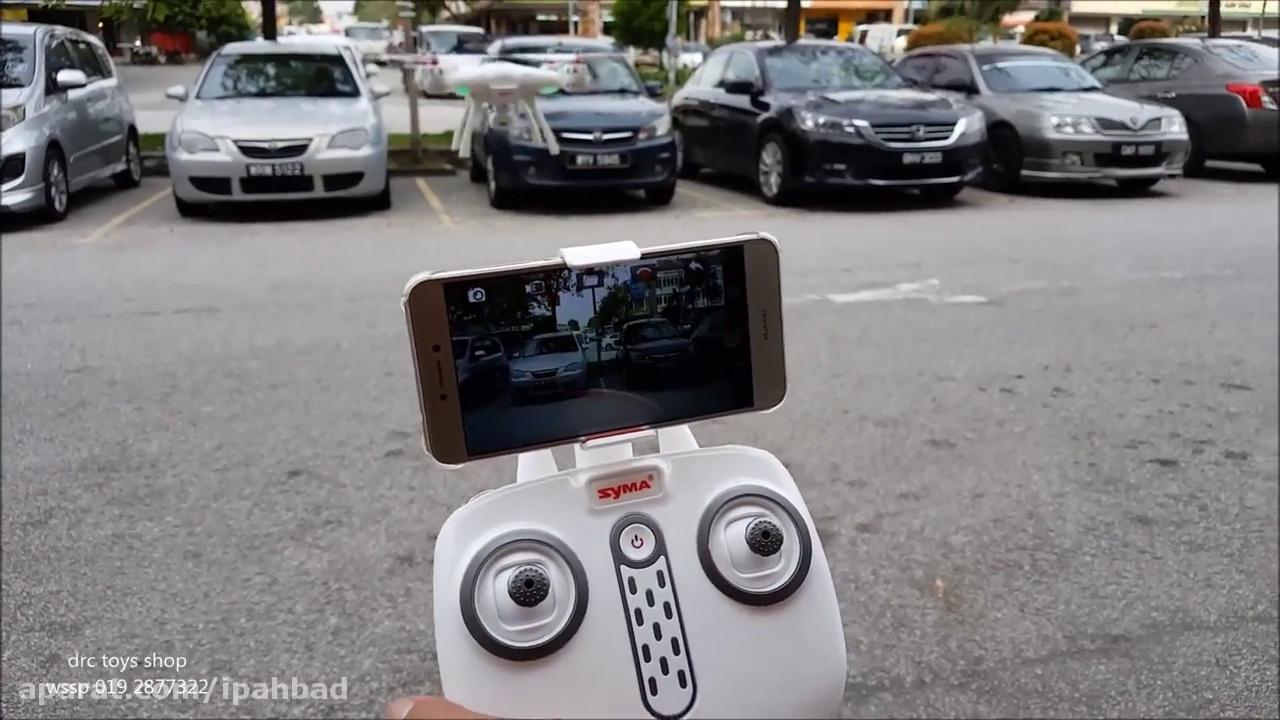drone: (381, 46, 634, 154)
